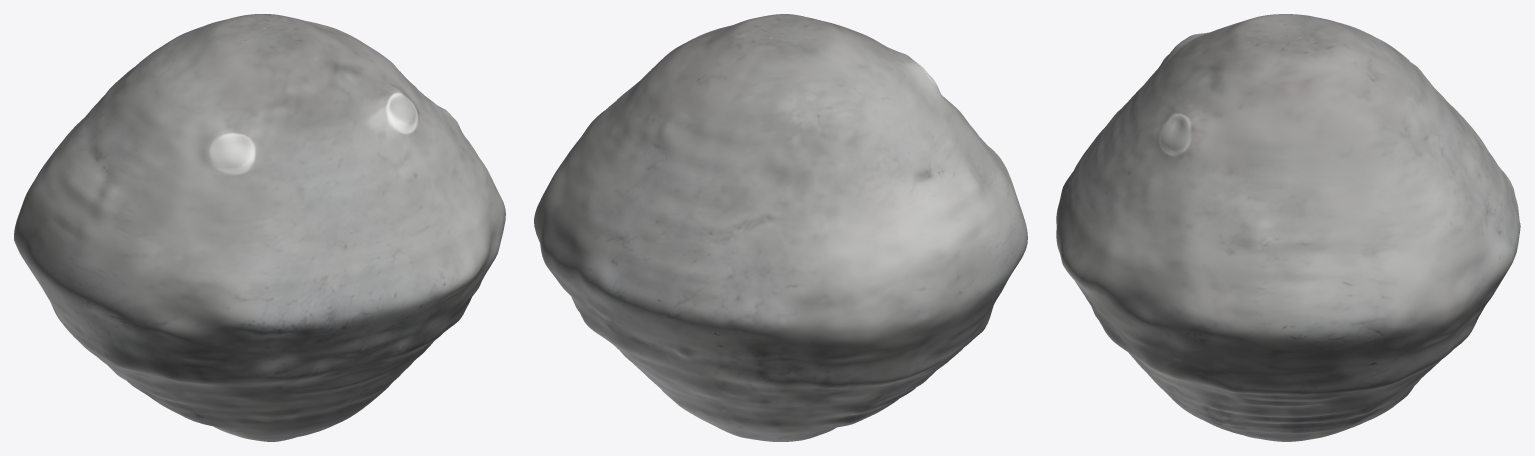
File: Bennu.gltf
3 views of the same model, side by side, from view 1: azimuth 30°, elevation 25°; view 2: azimuth 150°, elevation 25°; view 3: azimuth 270°, elevation 25° (orthographic).
Parts seen in each view (by area): view 1: model; view 2: model; view 3: model.
Part boxes in pixels (left/top/right/bottom): model: left=14, top=14, right=505, bottom=441; model: left=534, top=14, right=1027, bottom=441; model: left=1056, top=14, right=1520, bottom=441.
Size of the model in its own units: 1.9 by 1.65 by 1.8.
Materials: 1 (1 with a texture image).
